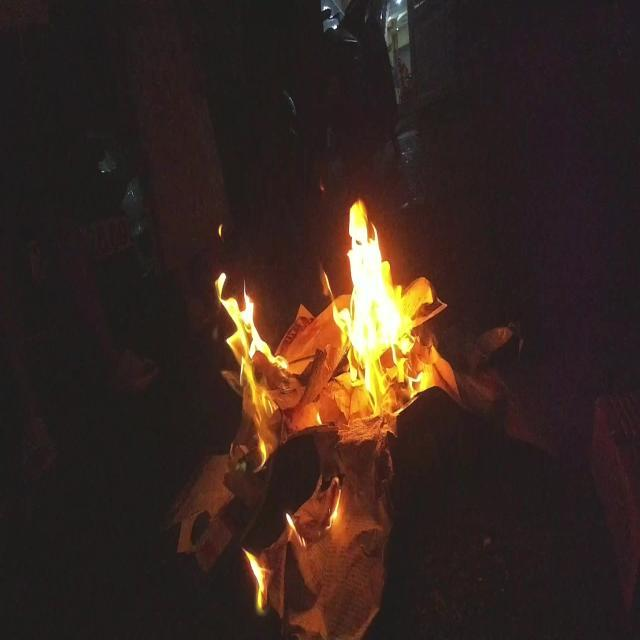Fire: (319, 200, 423, 415), (212, 272, 289, 477), (241, 544, 274, 618)
